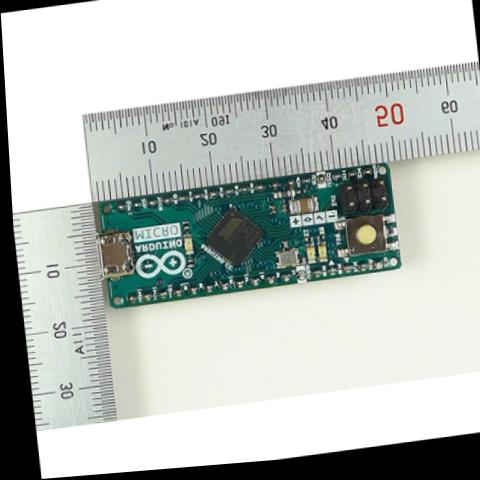Arduino-Micro: (78, 158, 403, 320)
